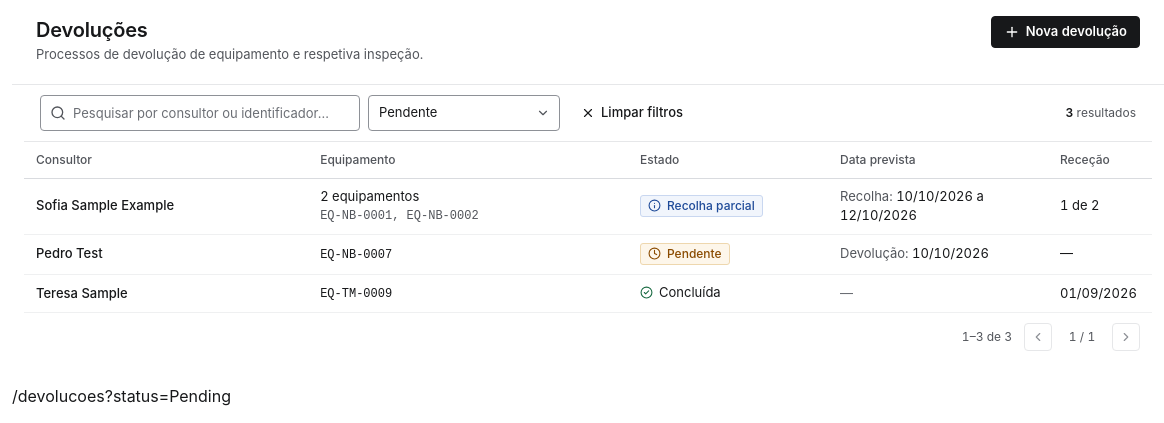
ReturnsListPage › keeps the status filter in the URL
The width and height of the screenshot is (1164, 423).
Expected: the table is shown, [24,142,1152,312]
Select "Recebida" in the dropdown named "Filtrar por estado": (464, 113) [368,95,560,131]
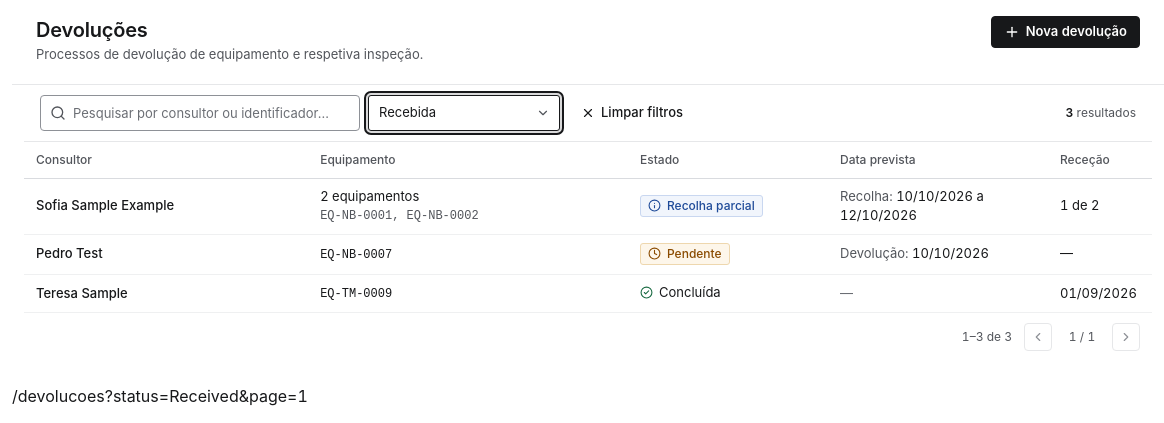
Now the text with test id "location" shows "status=Received", box [12,386,308,406]
